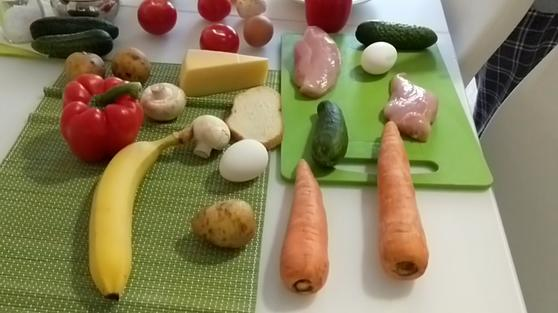banana: (86, 126, 192, 299)
carrot: (374, 121, 430, 278), (281, 158, 330, 293)
champignon: (190, 112, 230, 160), (140, 81, 185, 120)
cheese: (180, 48, 269, 95)
chicken_fillet: (382, 71, 438, 142), (291, 26, 341, 96)
cucumber: (356, 17, 439, 54), (313, 99, 347, 166), (29, 28, 116, 54), (29, 15, 118, 39)
egg: (216, 140, 270, 182), (357, 42, 399, 72), (243, 17, 273, 47)
pepper: (63, 72, 141, 161)
potato: (196, 198, 254, 245), (113, 43, 152, 78), (62, 50, 105, 78)
tomato: (136, 1, 177, 36), (199, 23, 241, 51)
white_bread: (226, 83, 285, 146)
